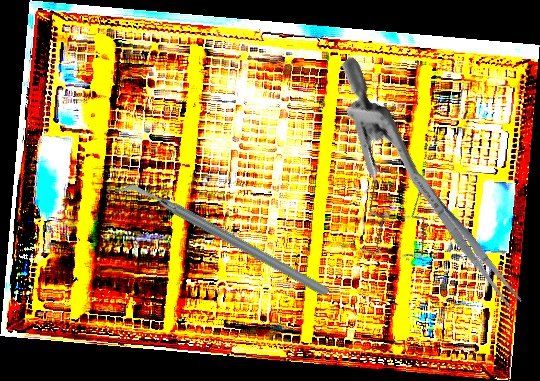Chopper: (113, 121, 333, 359)
Dressing Forceps: (404, 166, 525, 312)
Speculum: (258, 55, 489, 284)
